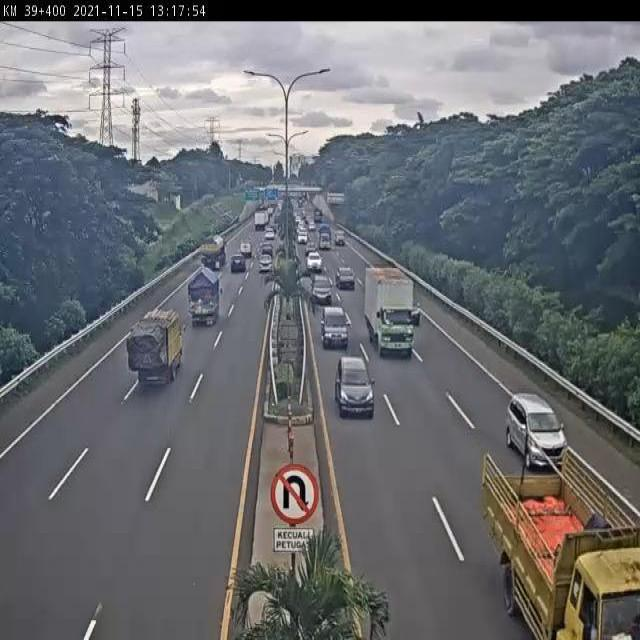car: (505, 396, 565, 465), (334, 356, 375, 417), (321, 307, 350, 353), (310, 274, 332, 306), (337, 265, 356, 292)
truck-m-: (126, 309, 185, 392), (367, 266, 418, 358), (185, 264, 222, 324)
